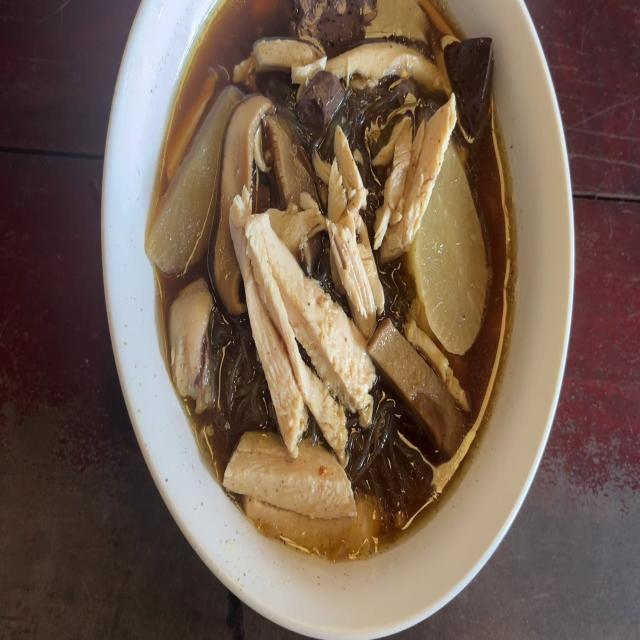boiled_chicken_blood_jelly: (451, 36, 492, 130), (288, 0, 366, 45), (307, 75, 341, 124)
chicken_shredded: (238, 213, 363, 449), (386, 98, 460, 238), (226, 436, 350, 516), (327, 129, 381, 309), (163, 282, 217, 390), (332, 38, 431, 80), (253, 34, 318, 78)
daikon_radish: (154, 92, 231, 274), (410, 172, 485, 346)
noodle: (158, 0, 513, 546)
